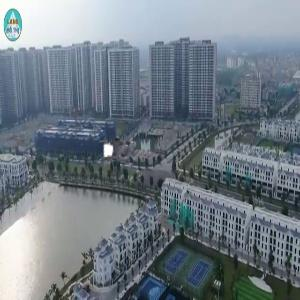drone: (92, 125, 144, 177)
